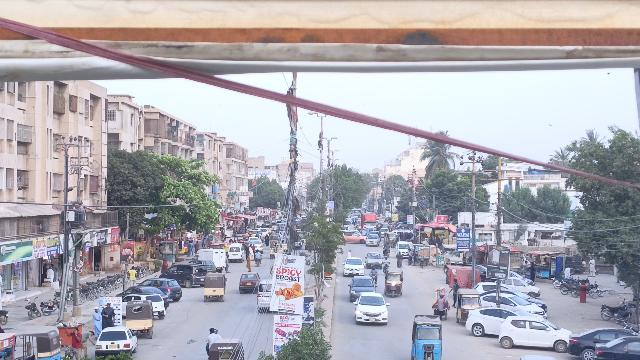Car: (495, 314, 568, 349), (464, 305, 526, 338), (567, 324, 621, 358), (353, 291, 390, 327), (95, 327, 138, 357), (593, 333, 640, 360), (347, 275, 377, 301), (341, 257, 365, 275), (239, 271, 260, 291)
Cart: (429, 284, 451, 320)
Person: (101, 301, 115, 328), (91, 305, 101, 332), (128, 264, 137, 285)
Rickshaw: (409, 312, 443, 360), (124, 299, 154, 336), (454, 287, 480, 326), (200, 271, 228, 305), (207, 339, 247, 360), (383, 266, 404, 299)
Van: (254, 279, 274, 312)
